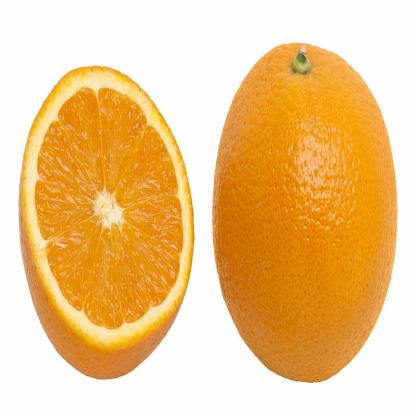orange: (207, 46, 407, 386)
